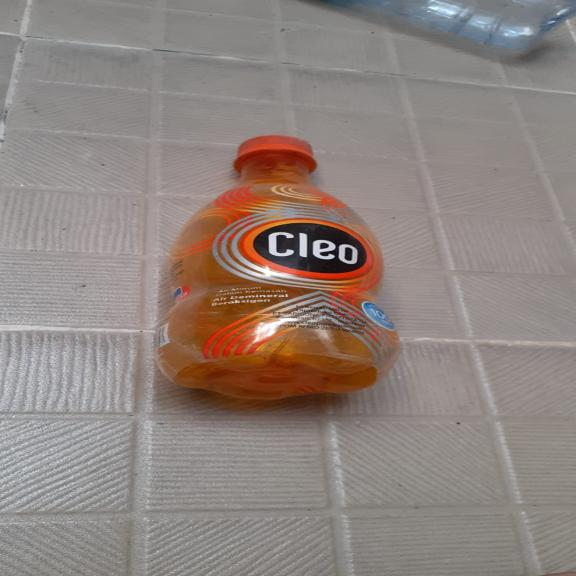Plastik: (146, 128, 402, 404), (285, 0, 576, 61)
